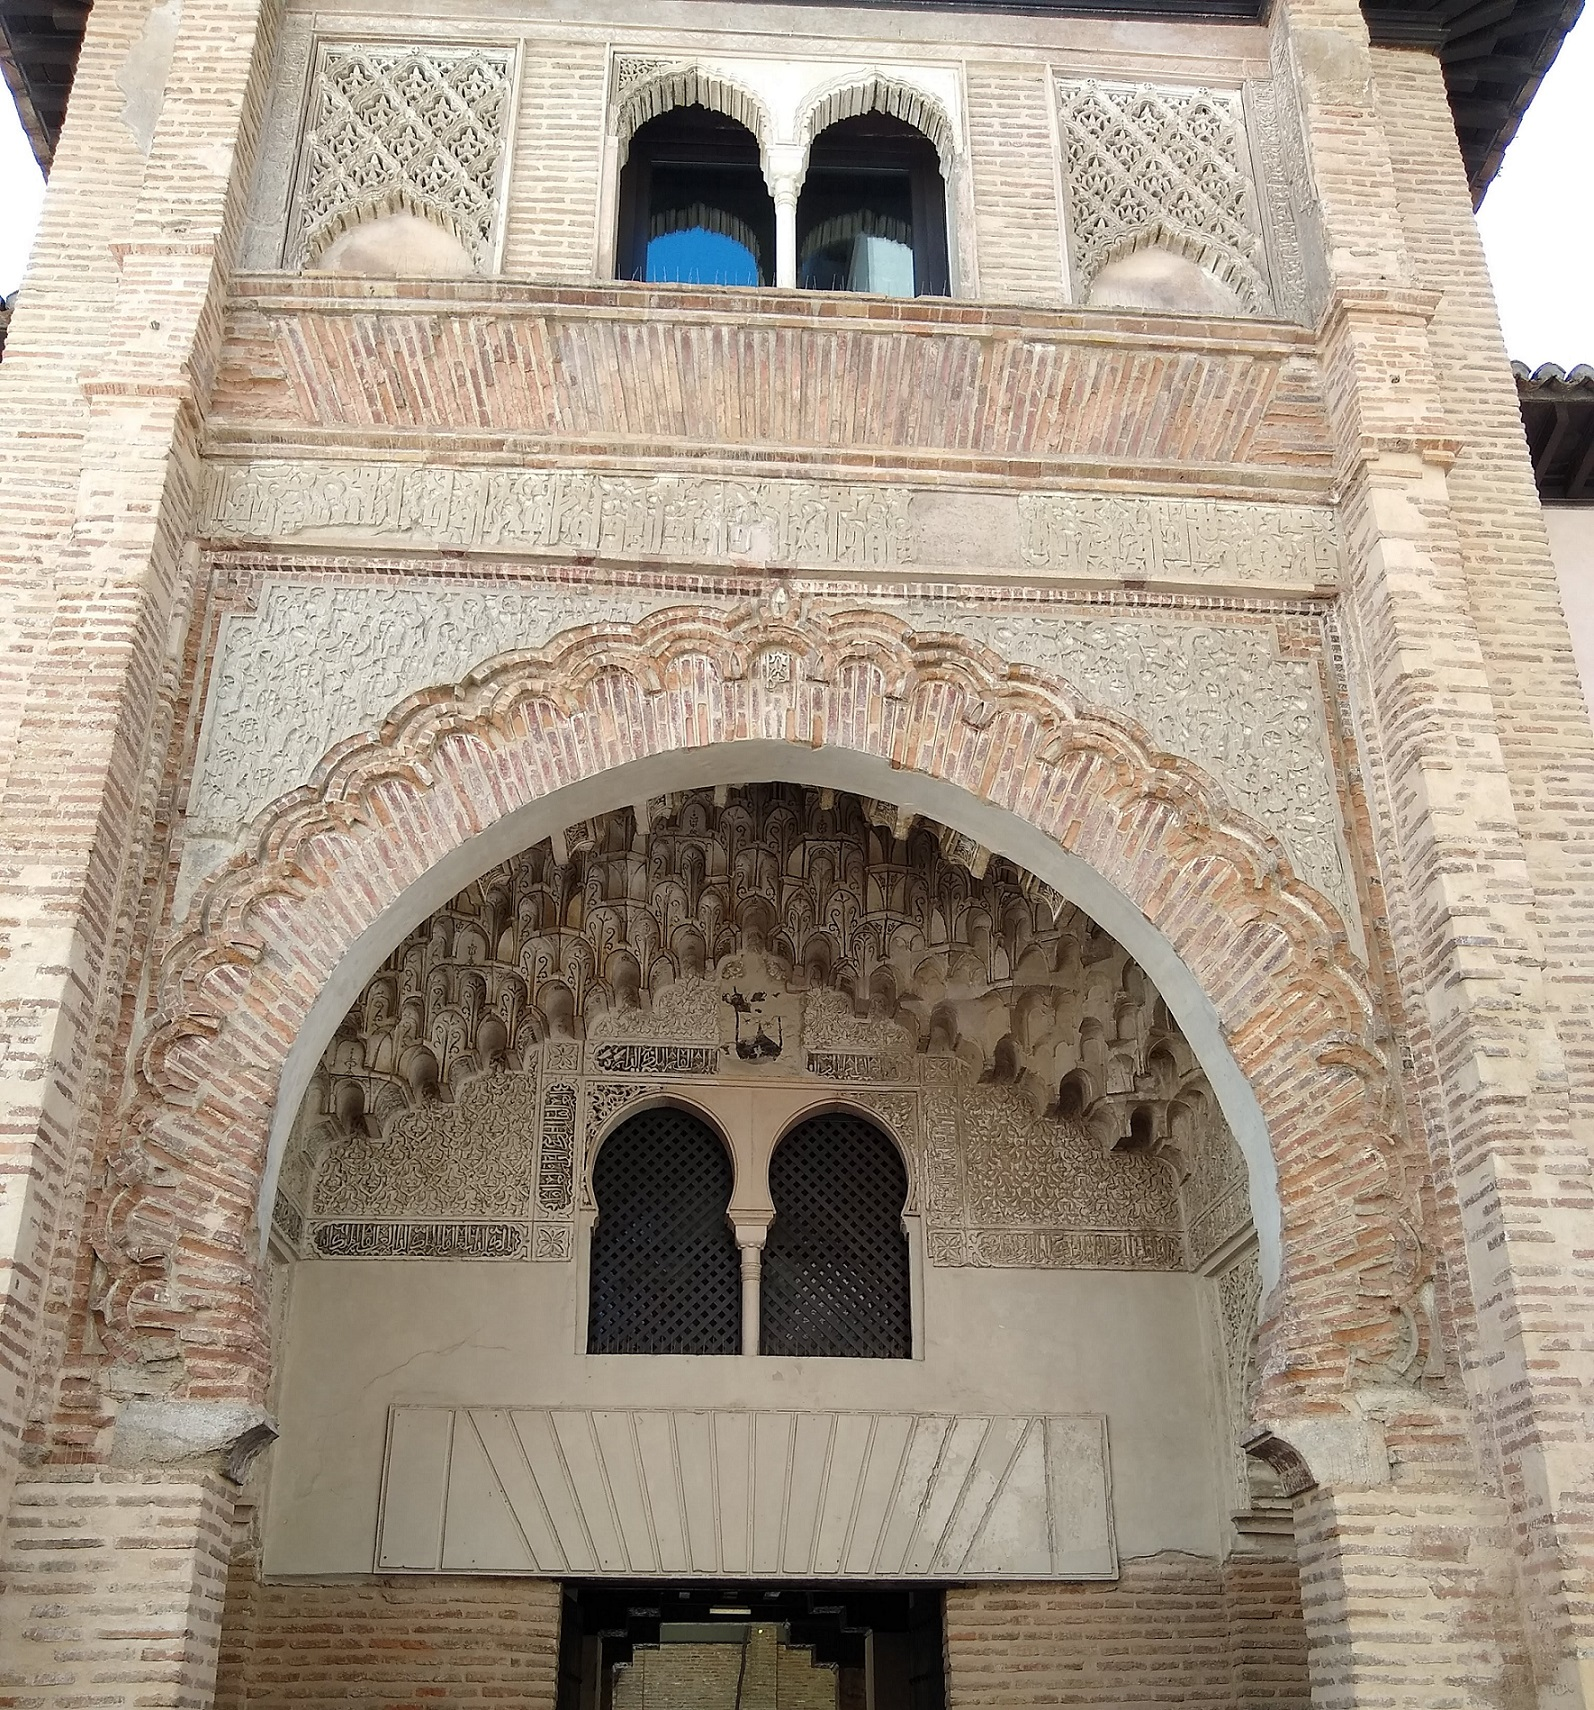arco-herradura: (187, 727, 1384, 1559), (577, 1084, 754, 1242), (749, 1090, 921, 1245)
dintel-adovelado: (273, 289, 1284, 486), (467, 1401, 1043, 1580)
